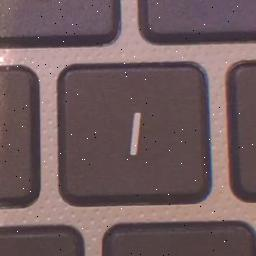i: (117, 100, 163, 162)
